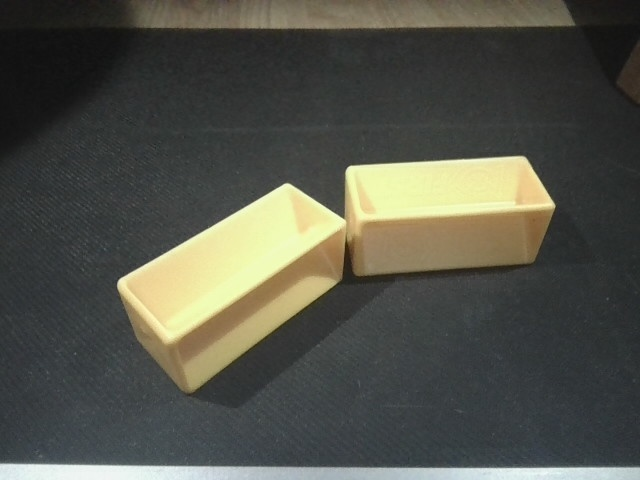YellowSample: (110, 178, 349, 398), (339, 153, 557, 279)
